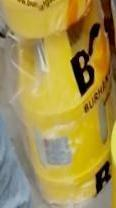cylinder: (1, 0, 116, 208)
